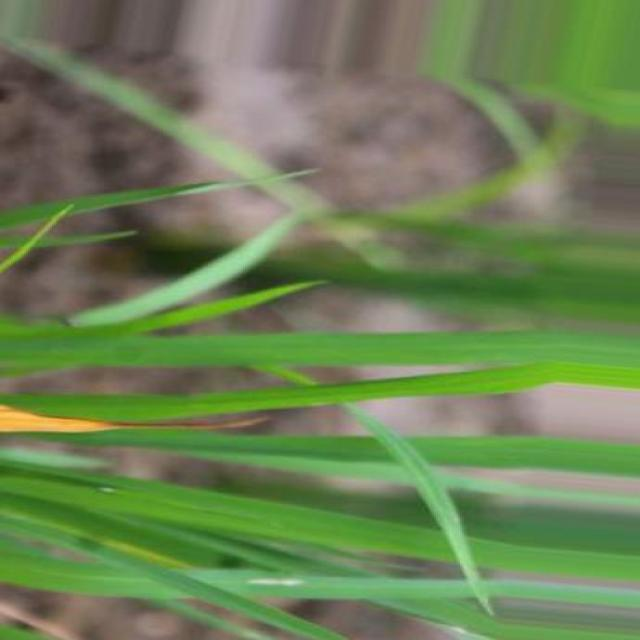Rice Tungro: (0, 406, 120, 433)
